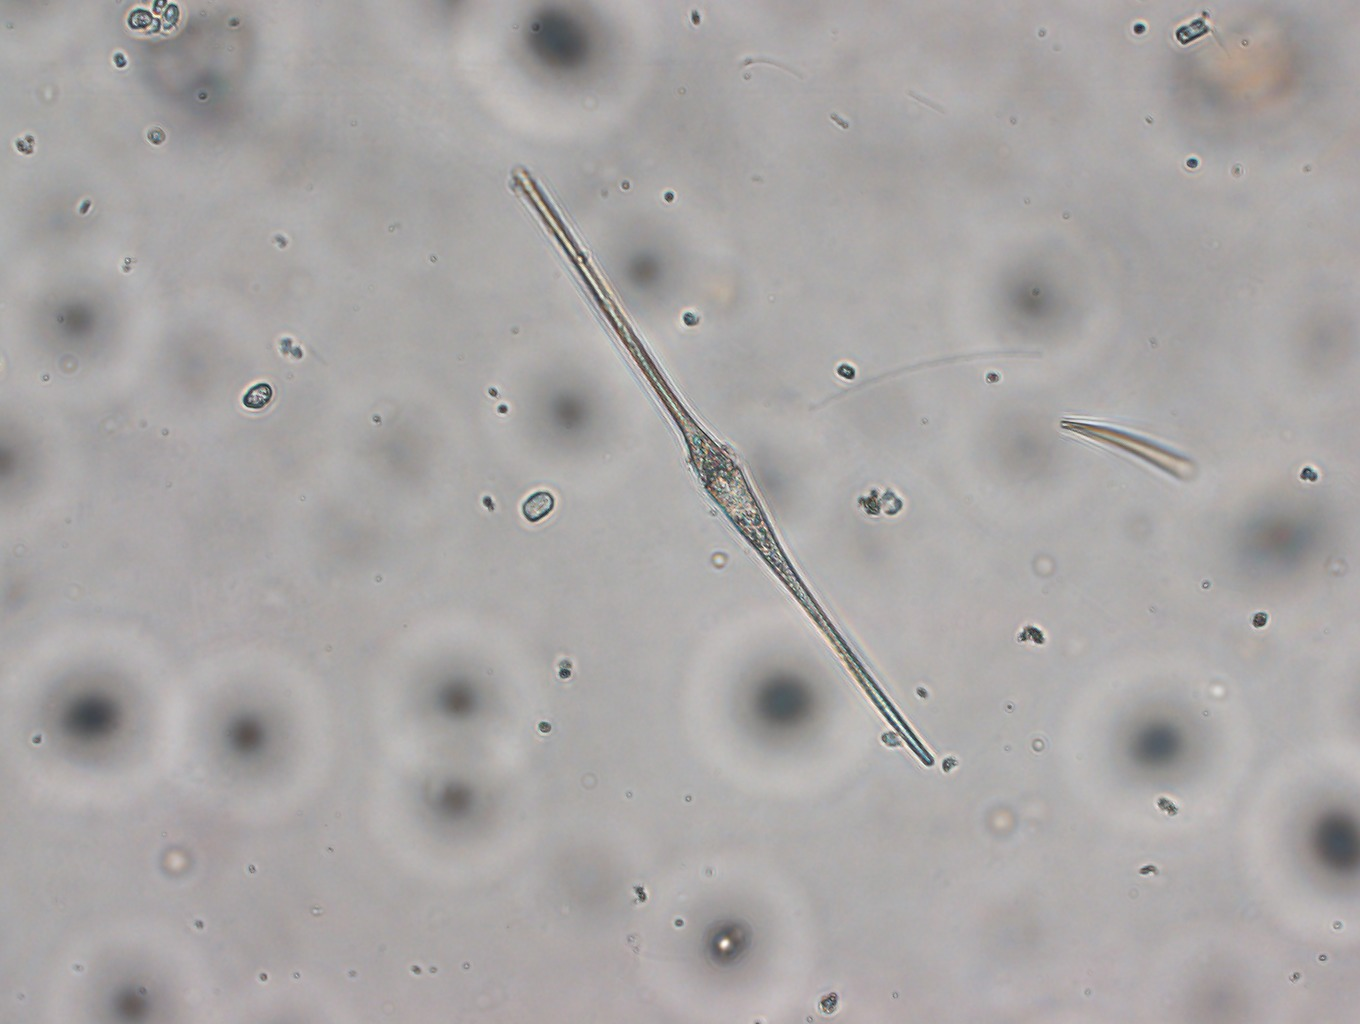ceratium fusus: (509, 160, 941, 770)
